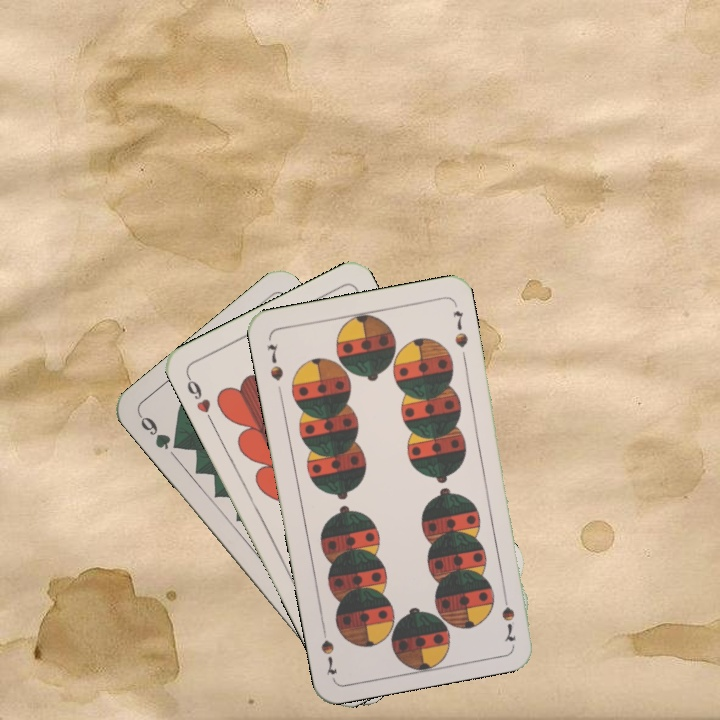G9: (134, 410, 185, 453)
H9: (182, 370, 216, 425)
S7: (497, 585, 519, 645), (263, 340, 286, 383)
